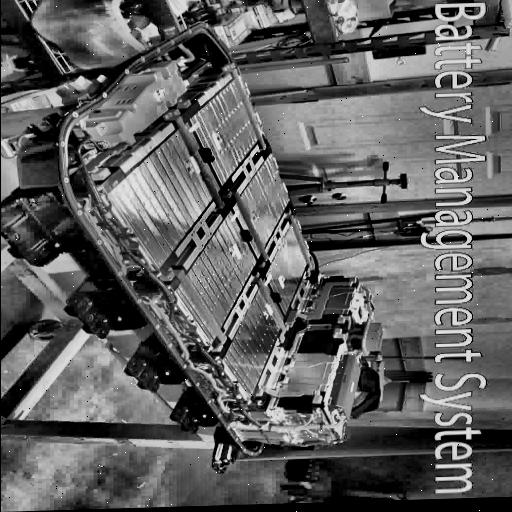bms_unit: (322, 352, 362, 426)
connector: (348, 317, 386, 356)
